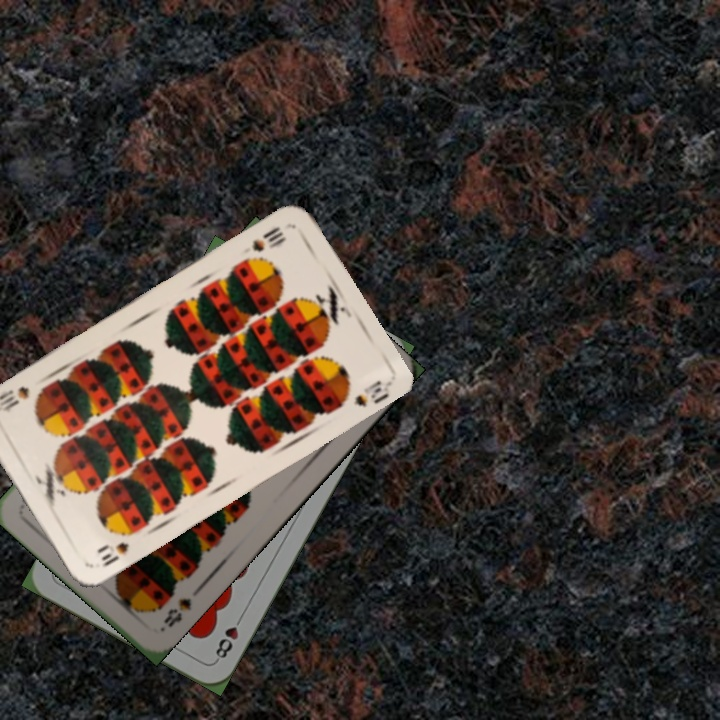H8: (211, 610, 246, 664)
S10: (248, 222, 289, 255), (97, 538, 132, 570)
S8: (159, 594, 194, 631)
